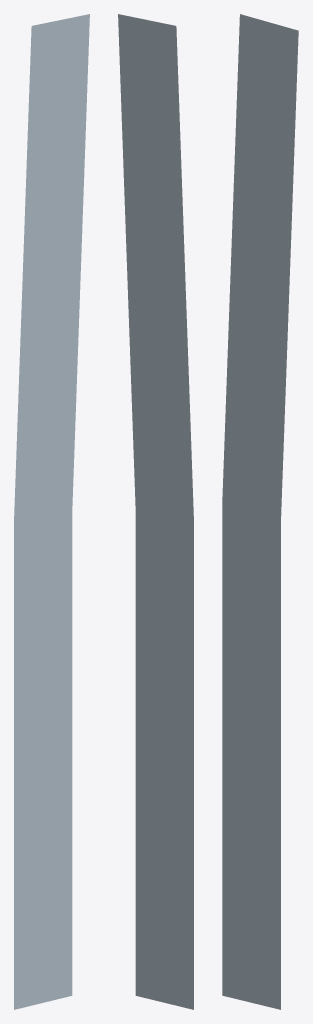
Rendered from Xinyan_RiffRevolutionFlames_Trigger_Spark.fbx.
The picture shows the model from 3 angles, left to right: view 1: azimuth 30°, elevation 25°; view 2: azimuth 150°, elevation 25°; view 3: azimuth 330°, elevation 25°; orthographic projection.
Visible parts, largest first — view 1: PART_TaperedSpark; view 2: PART_TaperedSpark; view 3: PART_TaperedSpark.
Boxes of the visible parts, x1=… form: PART_TaperedSpark: x1=14, y1=14, x2=89, y2=1009; PART_TaperedSpark: x1=118, y1=14, x2=193, y2=1009; PART_TaperedSpark: x1=222, y1=14, x2=298, y2=1009.
Size of the model in its own units: 6.5 by 80.09 by 1.3e-05.
